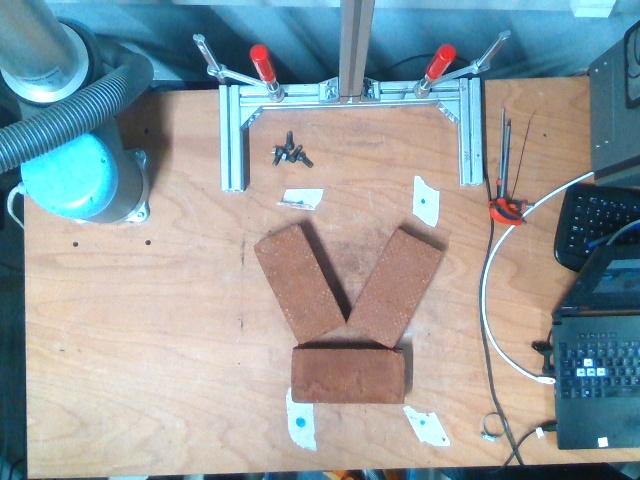brick: (348, 230, 443, 349), (253, 224, 342, 343), (295, 350, 403, 402)
